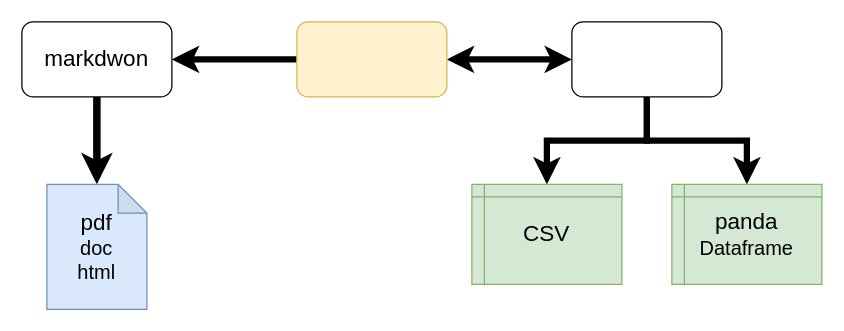
Some shapes in this 844 by 331 pixel diagram are drawn without their labels. Here are the shapes that lost their labels. From the top down, the centre of each, then its label:
the point at 371,59: REAM file
the point at 646,59: dict/JSON
